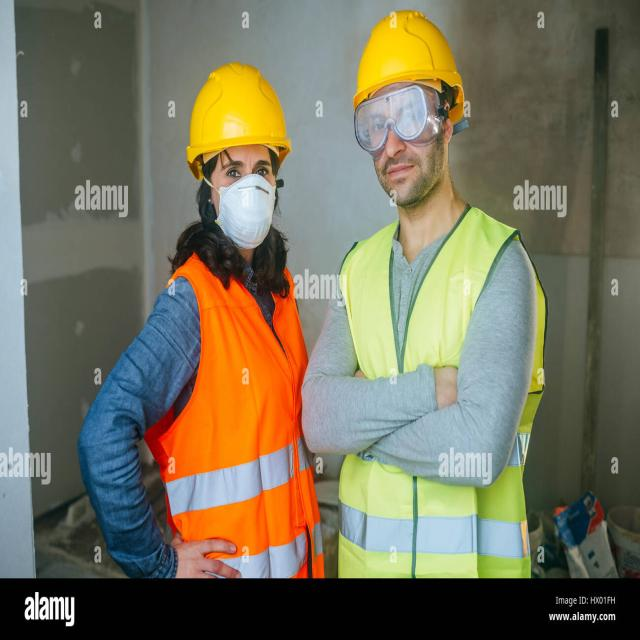helmet: (342, 4, 482, 212), (171, 65, 309, 262)
vest: (322, 218, 568, 586), (151, 259, 330, 589)
